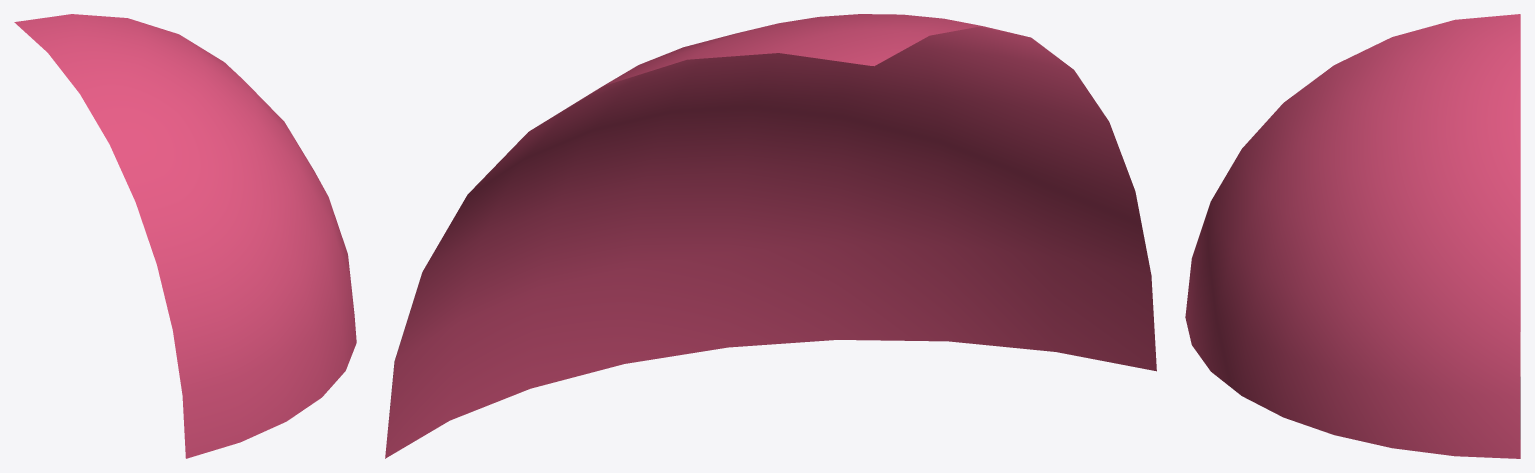
File: r4c1_face_pink.gltf
3 renders of one model, left to right at view 1: azimuth 30°, elevation 25°; view 2: azimuth 150°, elevation 25°; view 3: azimuth 270°, elevation 25°, orthographic. The views are drawn at different scales.
Parts seen in each view (by area): view 1: r4c1_face_pink; view 2: r4c1_face_pink; view 3: r4c1_face_pink.
Part boxes in pixels (x1,y1,x2,y2): r4c1_face_pink: (14,14,356,458); r4c1_face_pink: (385,14,1156,458); r4c1_face_pink: (1185,14,1520,458).
Bounding box in the file's own units: 2 × 2 × 2.
Materials: 1 (1 with a texture image).
